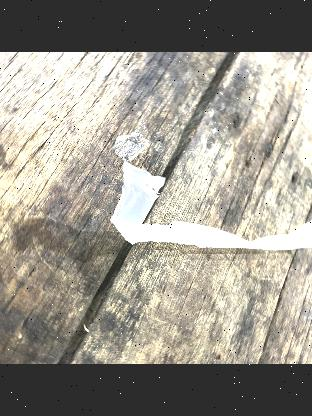Others: (115, 166, 312, 261), (112, 130, 146, 166)
